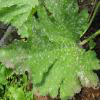Squash Powdery mildew leaf: (29, 47, 100, 100), (0, 24, 61, 85), (32, 0, 89, 52)
